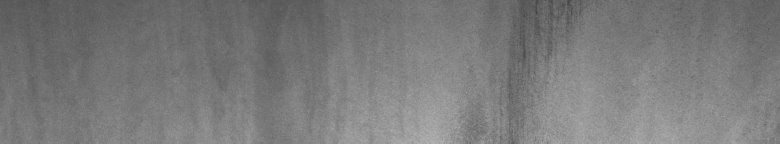ka: (509, 4, 581, 88)
